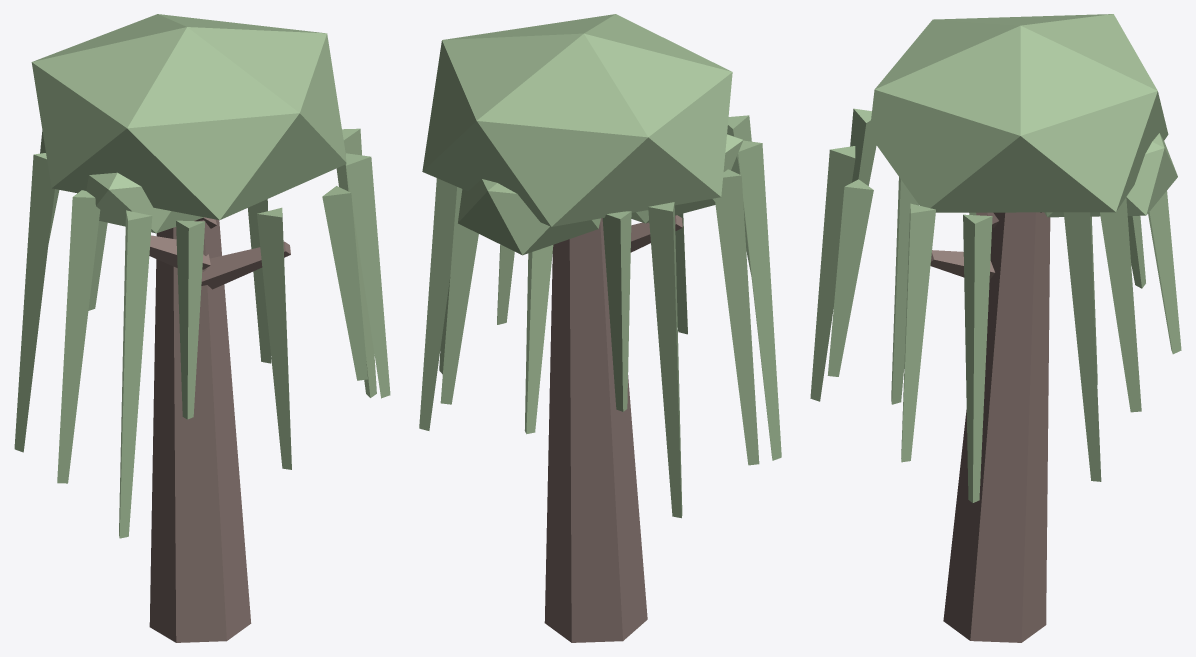
The model's file is arv_salgueiro_1_sem_textura.glb.
3 renders of one model, left to right at view 1: azimuth 30°, elevation 25°; view 2: azimuth 150°, elevation 25°; view 3: azimuth 270°, elevation 25°, orthographic.
Visible parts, largest first — view 1: arv_salgueiro_1; view 2: arv_salgueiro_1; view 3: arv_salgueiro_1.
Boxes of the visible parts, x1=… form: arv_salgueiro_1: x1=14, y1=14, x2=390, y2=642; arv_salgueiro_1: x1=419, y1=14, x2=781, y2=642; arv_salgueiro_1: x1=810, y1=14, x2=1181, y2=642.
Bounding box in the file's own units: 0.8671 × 1.54 × 0.8651.
